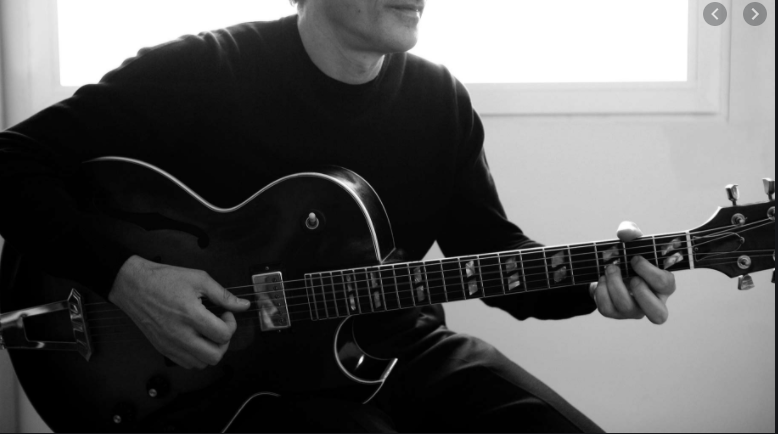fretboard: (304, 232, 687, 322)
